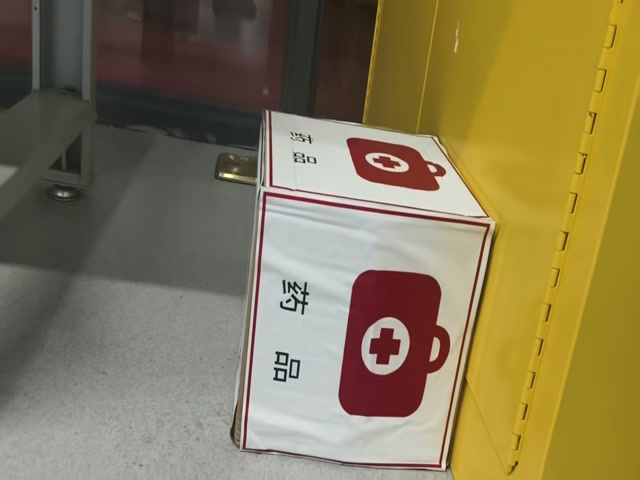Cube_medicine: (258, 112, 493, 228)
